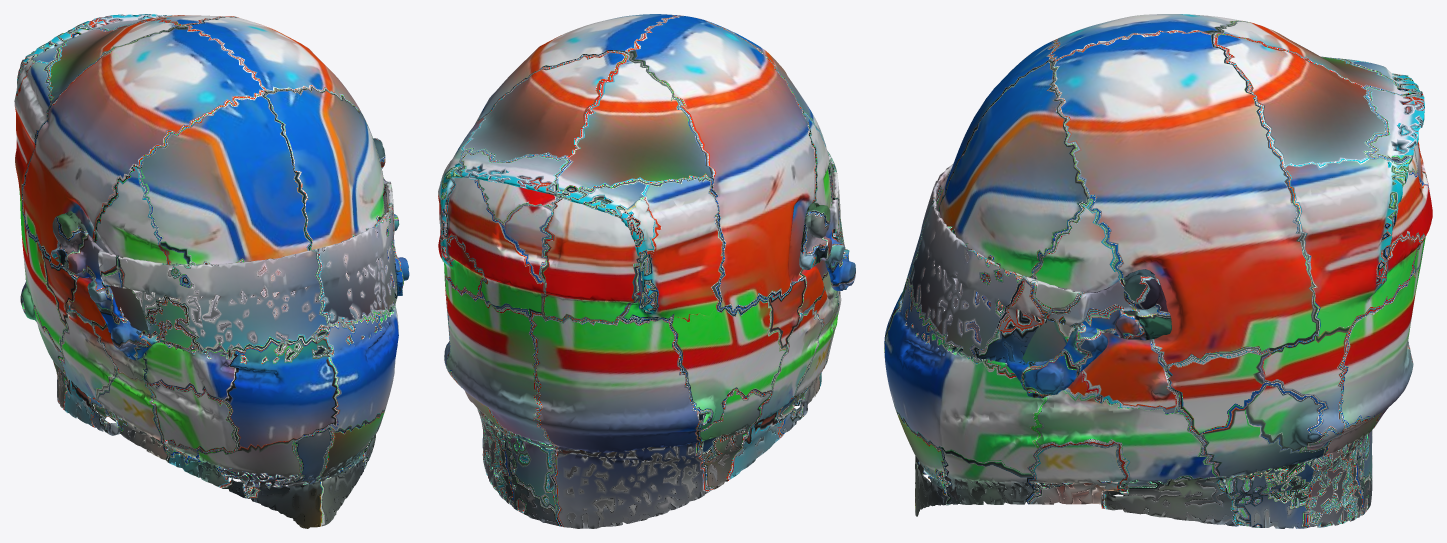
The model's file is mercedes.glb.
3 renders of one model, left to right at view 1: azimuth 30°, elevation 25°; view 2: azimuth 150°, elevation 25°; view 3: azimuth 270°, elevation 25°, orthographic. The views are drawn at different scales.
Size of the model in its own units: 0.4548 by 0.5527 by 0.5739.
Materials: 1 (1 with a texture image).
